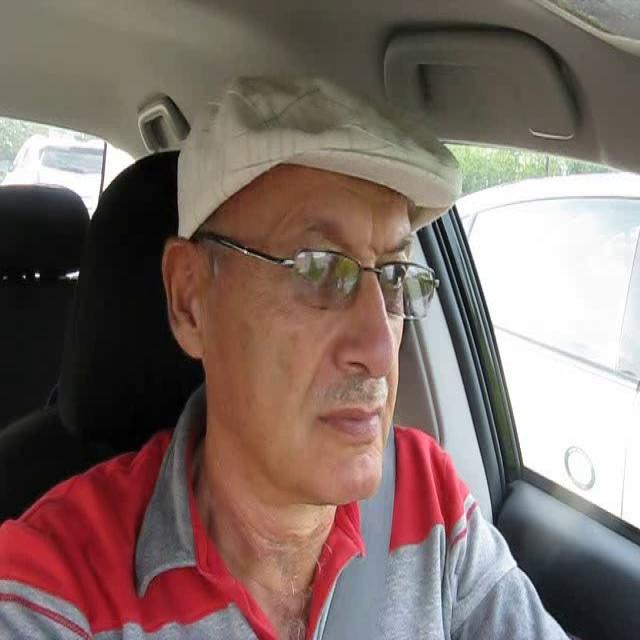close: (314, 398, 386, 446)
